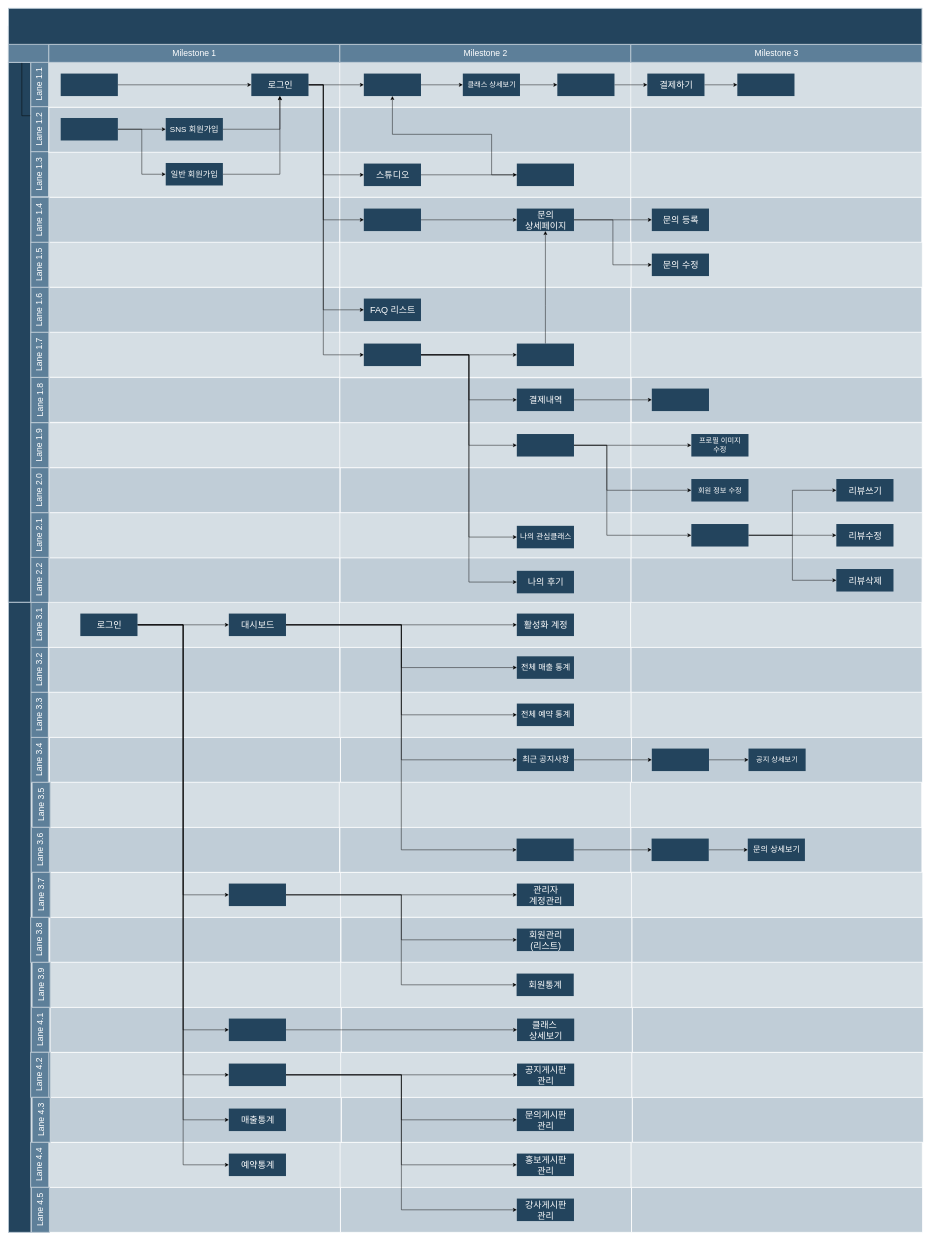
Image size: 932x1240. Some labels were removed from this diagram. Here are the shapes that lost their labels. From the top down, the centre of each, then its label:
At pixel 465 26: "LiClass Project".
At pixel 89 84: "회원".
At pixel 392 84: "클래스 리스트".
At pixel 585 84: "예약하기".
At pixel 765 84: "포인트적립".
At pixel 89 129: "비회원".
At pixel 545 174: "스튜디오 상세보기".
At pixel 392 219: "Q&A 리스트".
At pixel 19 332: "사용자".
At pixel 392 354: "마이 페이지".
At pixel 545 354: "내 문의내역".
At pixel 680 399: "환불".
At pixel 545 445: "프로필".
At pixel 719 535: "수강내역".
At pixel 680 759: "공지 리스트 (등록, 수정, 삭제)".
At pixel 545 849: "최근 문의사항".
At pixel 680 849: "문의 리스트 (답변, 답변수정 ,삭제)".
At pixel 257 894: "회원관리".
At pixel 19 917: "관리자".
At pixel 257 1029: "클래스 관리 (리스트)".
At pixel 257 1074: "게시판".
